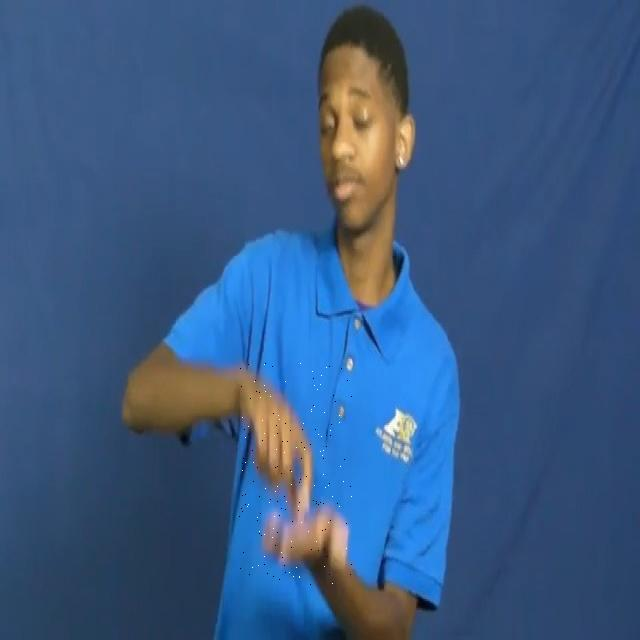biscuit: (238, 363, 352, 586)
